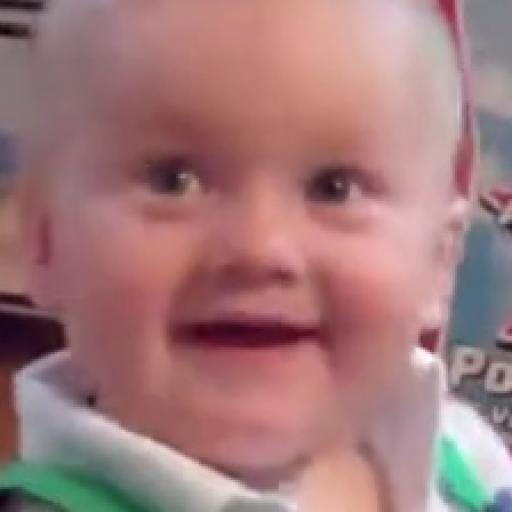Autism: (122, 46, 488, 451)
